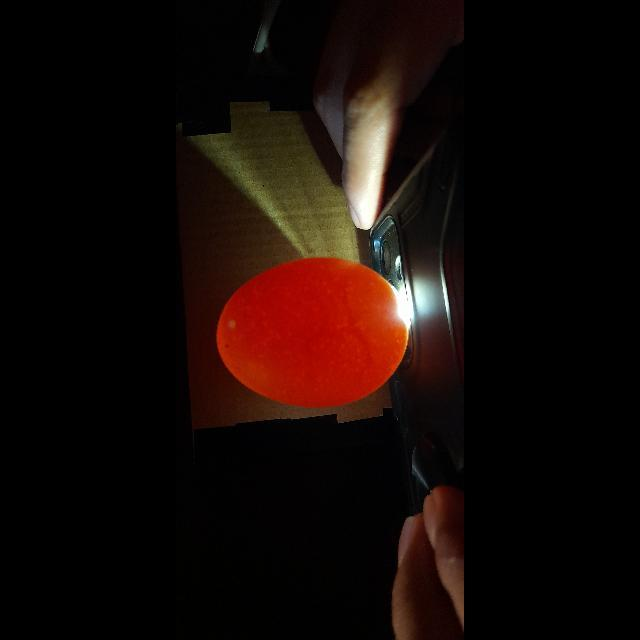Fertile: (217, 254, 411, 406)
